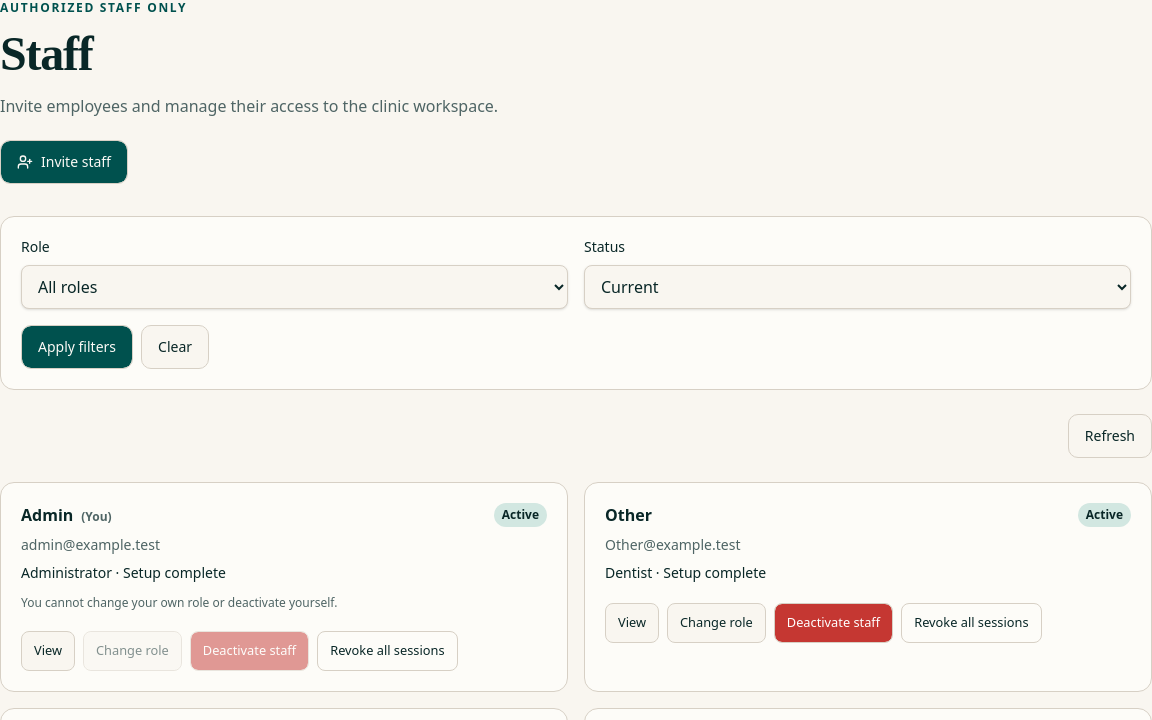
Test: admin-only team governance › requires an explicit doctor-profile choice, saves the verified binding, and explains session revocation
Check: the heading "Other" is shown, box [605,503,652,527]
Click the button "View" below "Other@example.test" at [632, 623], box [605,603,659,643]
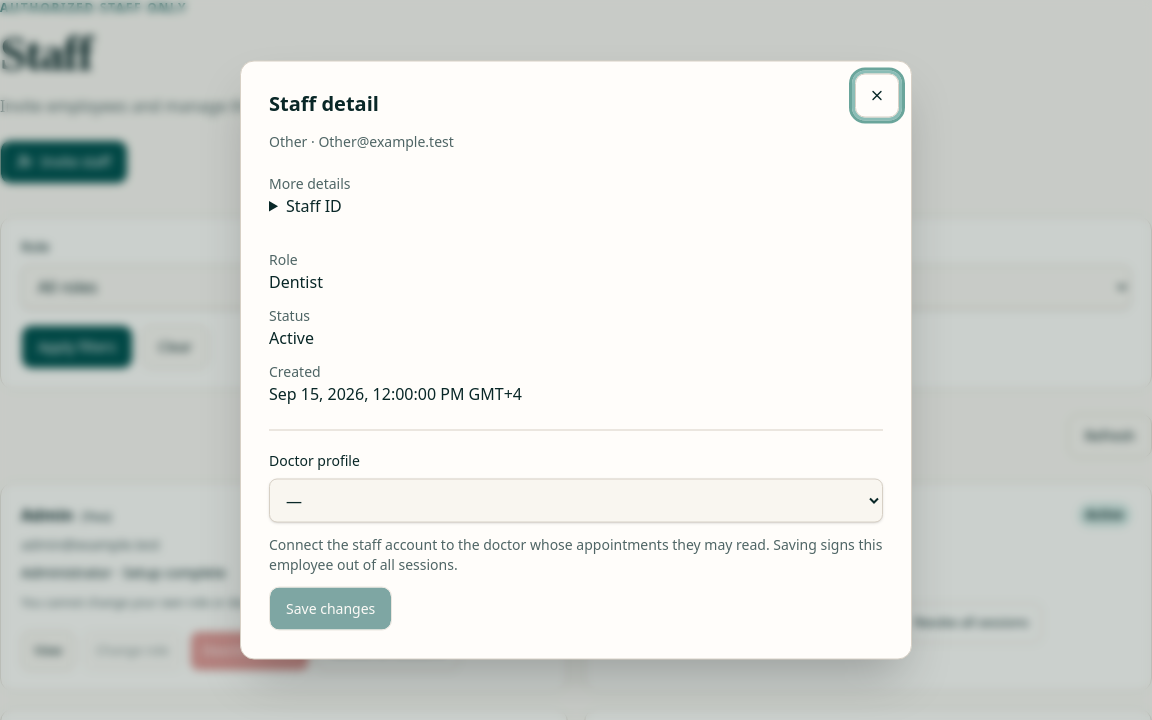
Check: the dropdown labelled "Doctor profile" is enabled
Check: the dropdown labelled "Doctor profile" shows "—"
Check: the text "Saving signs this employee out of all sessions" is shown, box [269,534,882,574]
Select "Davit Petrosyan" in the dropdown labelled "Doctor profile" at [576, 500], box [269,478,883,522]
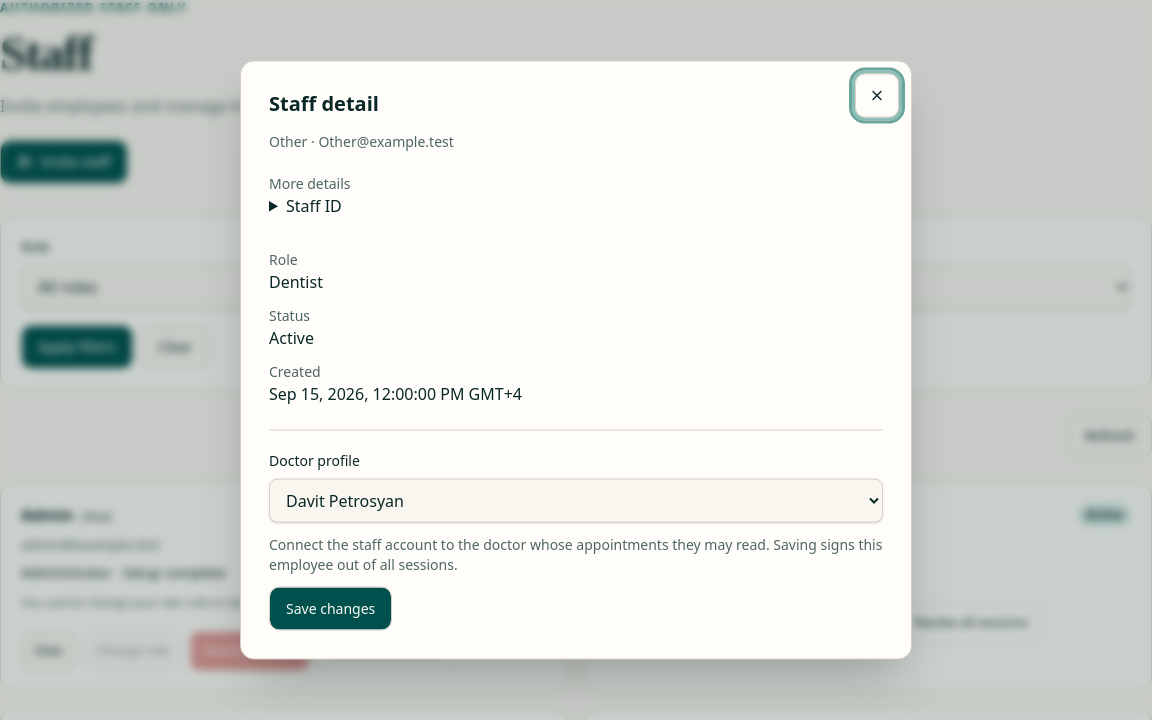
Click the button "Save changes" at [331, 608], box [269,586,392,630]
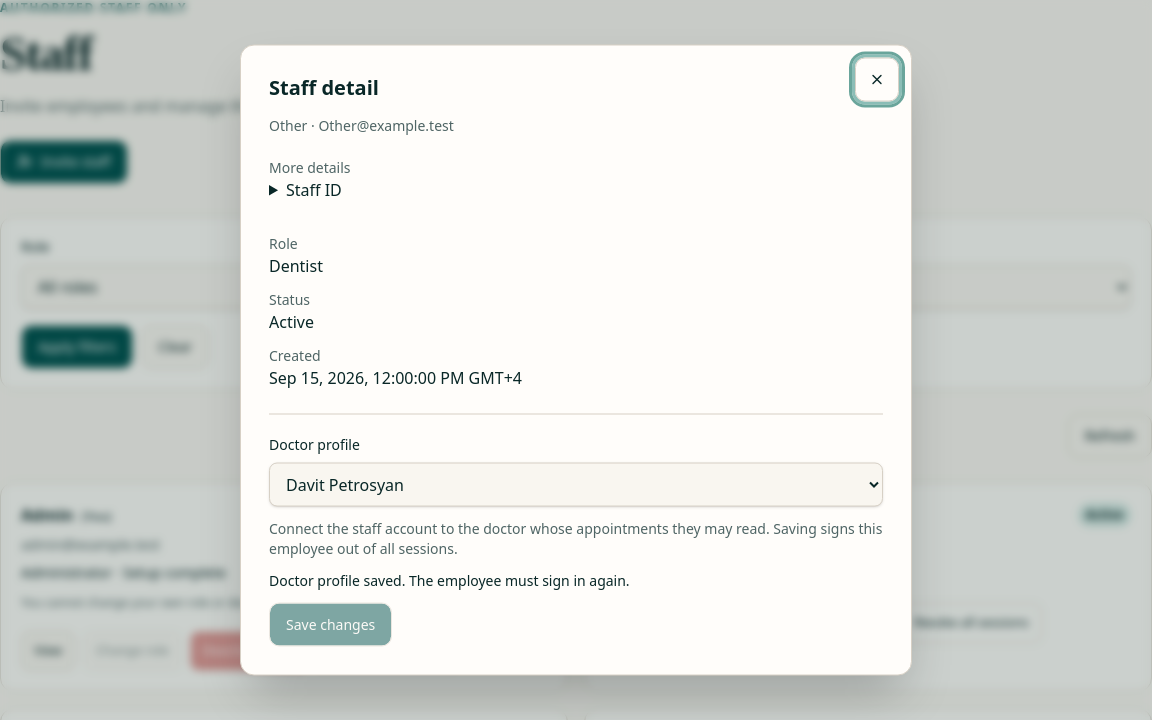
Check: the text "Doctor profile saved. The employee must sign in again." is shown, box [269,570,630,590]
Check: the button "Save changes" is disabled, box [269,602,392,646]
